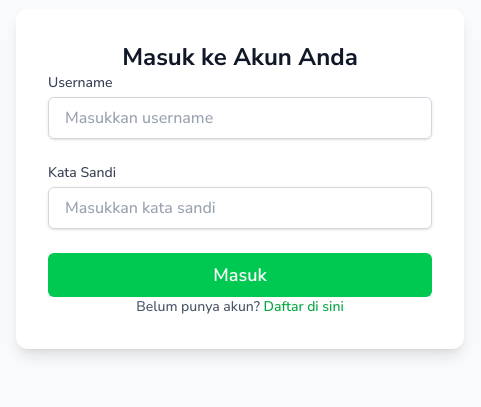
Login Component › Menampilkan pesan error jika login gagal
Type "salah" into the field labelled "Username" at coordinates (240, 118), box [48,97,432,139]
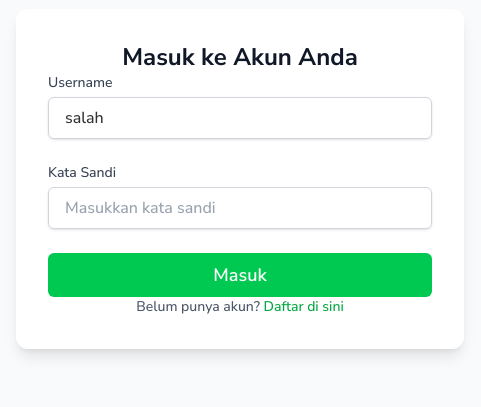
Type "123" into the password field labelled "Kata Sandi" at coordinates (240, 208), box [48,187,432,229]
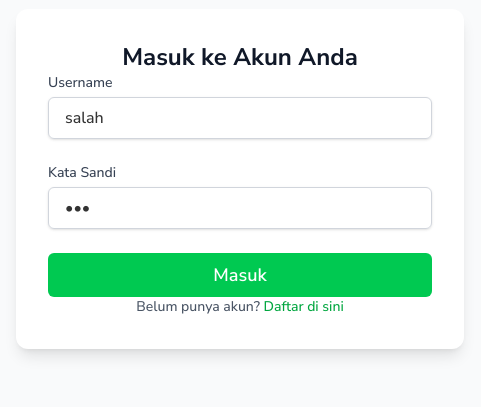
Click the button "Masuk" at coordinates (240, 275), box [48,253,432,297]
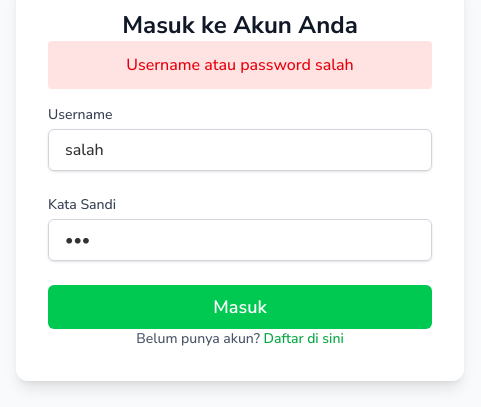
Check: the text "Username atau password salah" is shown, box [48,41,432,89]
